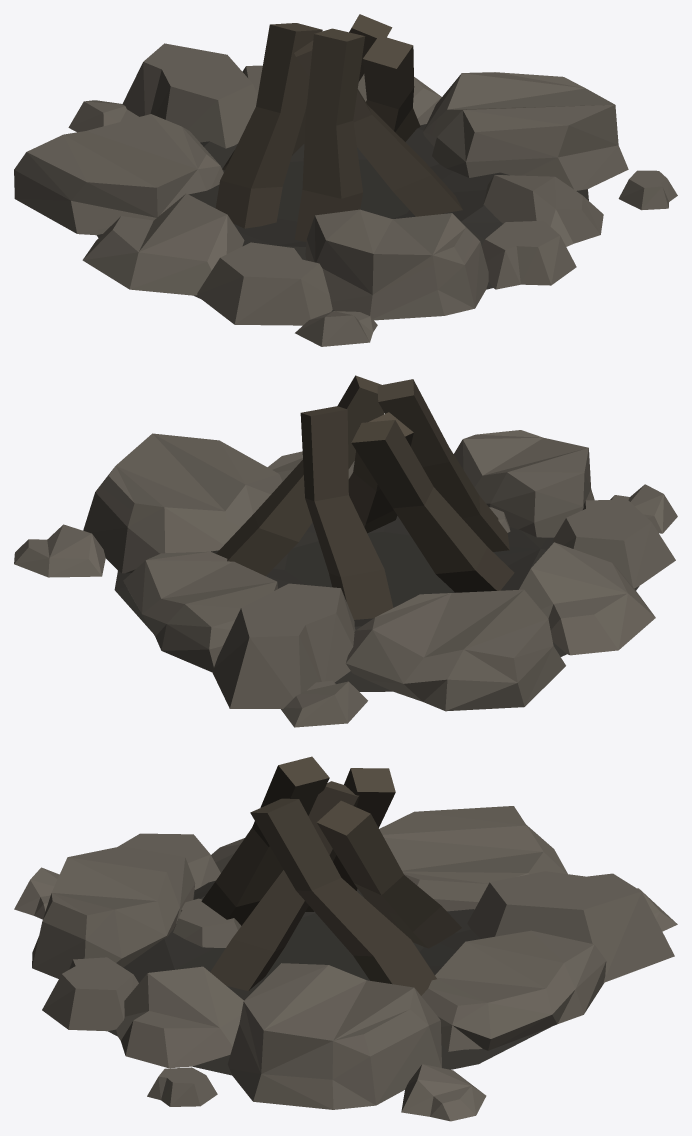
File: campfire.glb
The picture shows the model from 3 angles, top to bottom: view 1: azimuth 30°, elevation 25°; view 2: azimuth 150°, elevation 25°; view 3: azimuth 270°, elevation 25°; orthographic projection. The views are drawn at different scales.
Parts seen in each view (by area): view 1: SM_Env_CampFire_01; view 2: SM_Env_CampFire_01; view 3: SM_Env_CampFire_01.
Part boxes in pixels (left/top/right/bottom): SM_Env_CampFire_01: left=14, top=14, right=677, bottom=346; SM_Env_CampFire_01: left=14, top=375, right=677, bottom=727; SM_Env_CampFire_01: left=14, top=756, right=677, bottom=1121.
Size of the model in its own units: 1.53 by 0.5995 by 1.53.
1 material, 1 textured.
